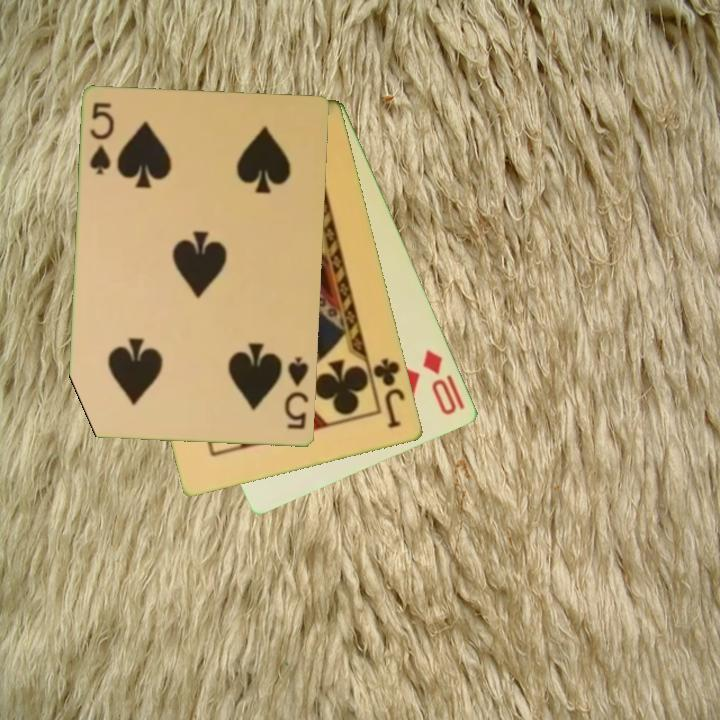10d: (419, 346, 461, 419)
5s: (87, 99, 118, 178), (282, 353, 312, 433)
Jc: (365, 355, 409, 432)
